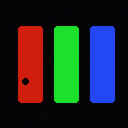0 point: (22, 78, 28, 84)
